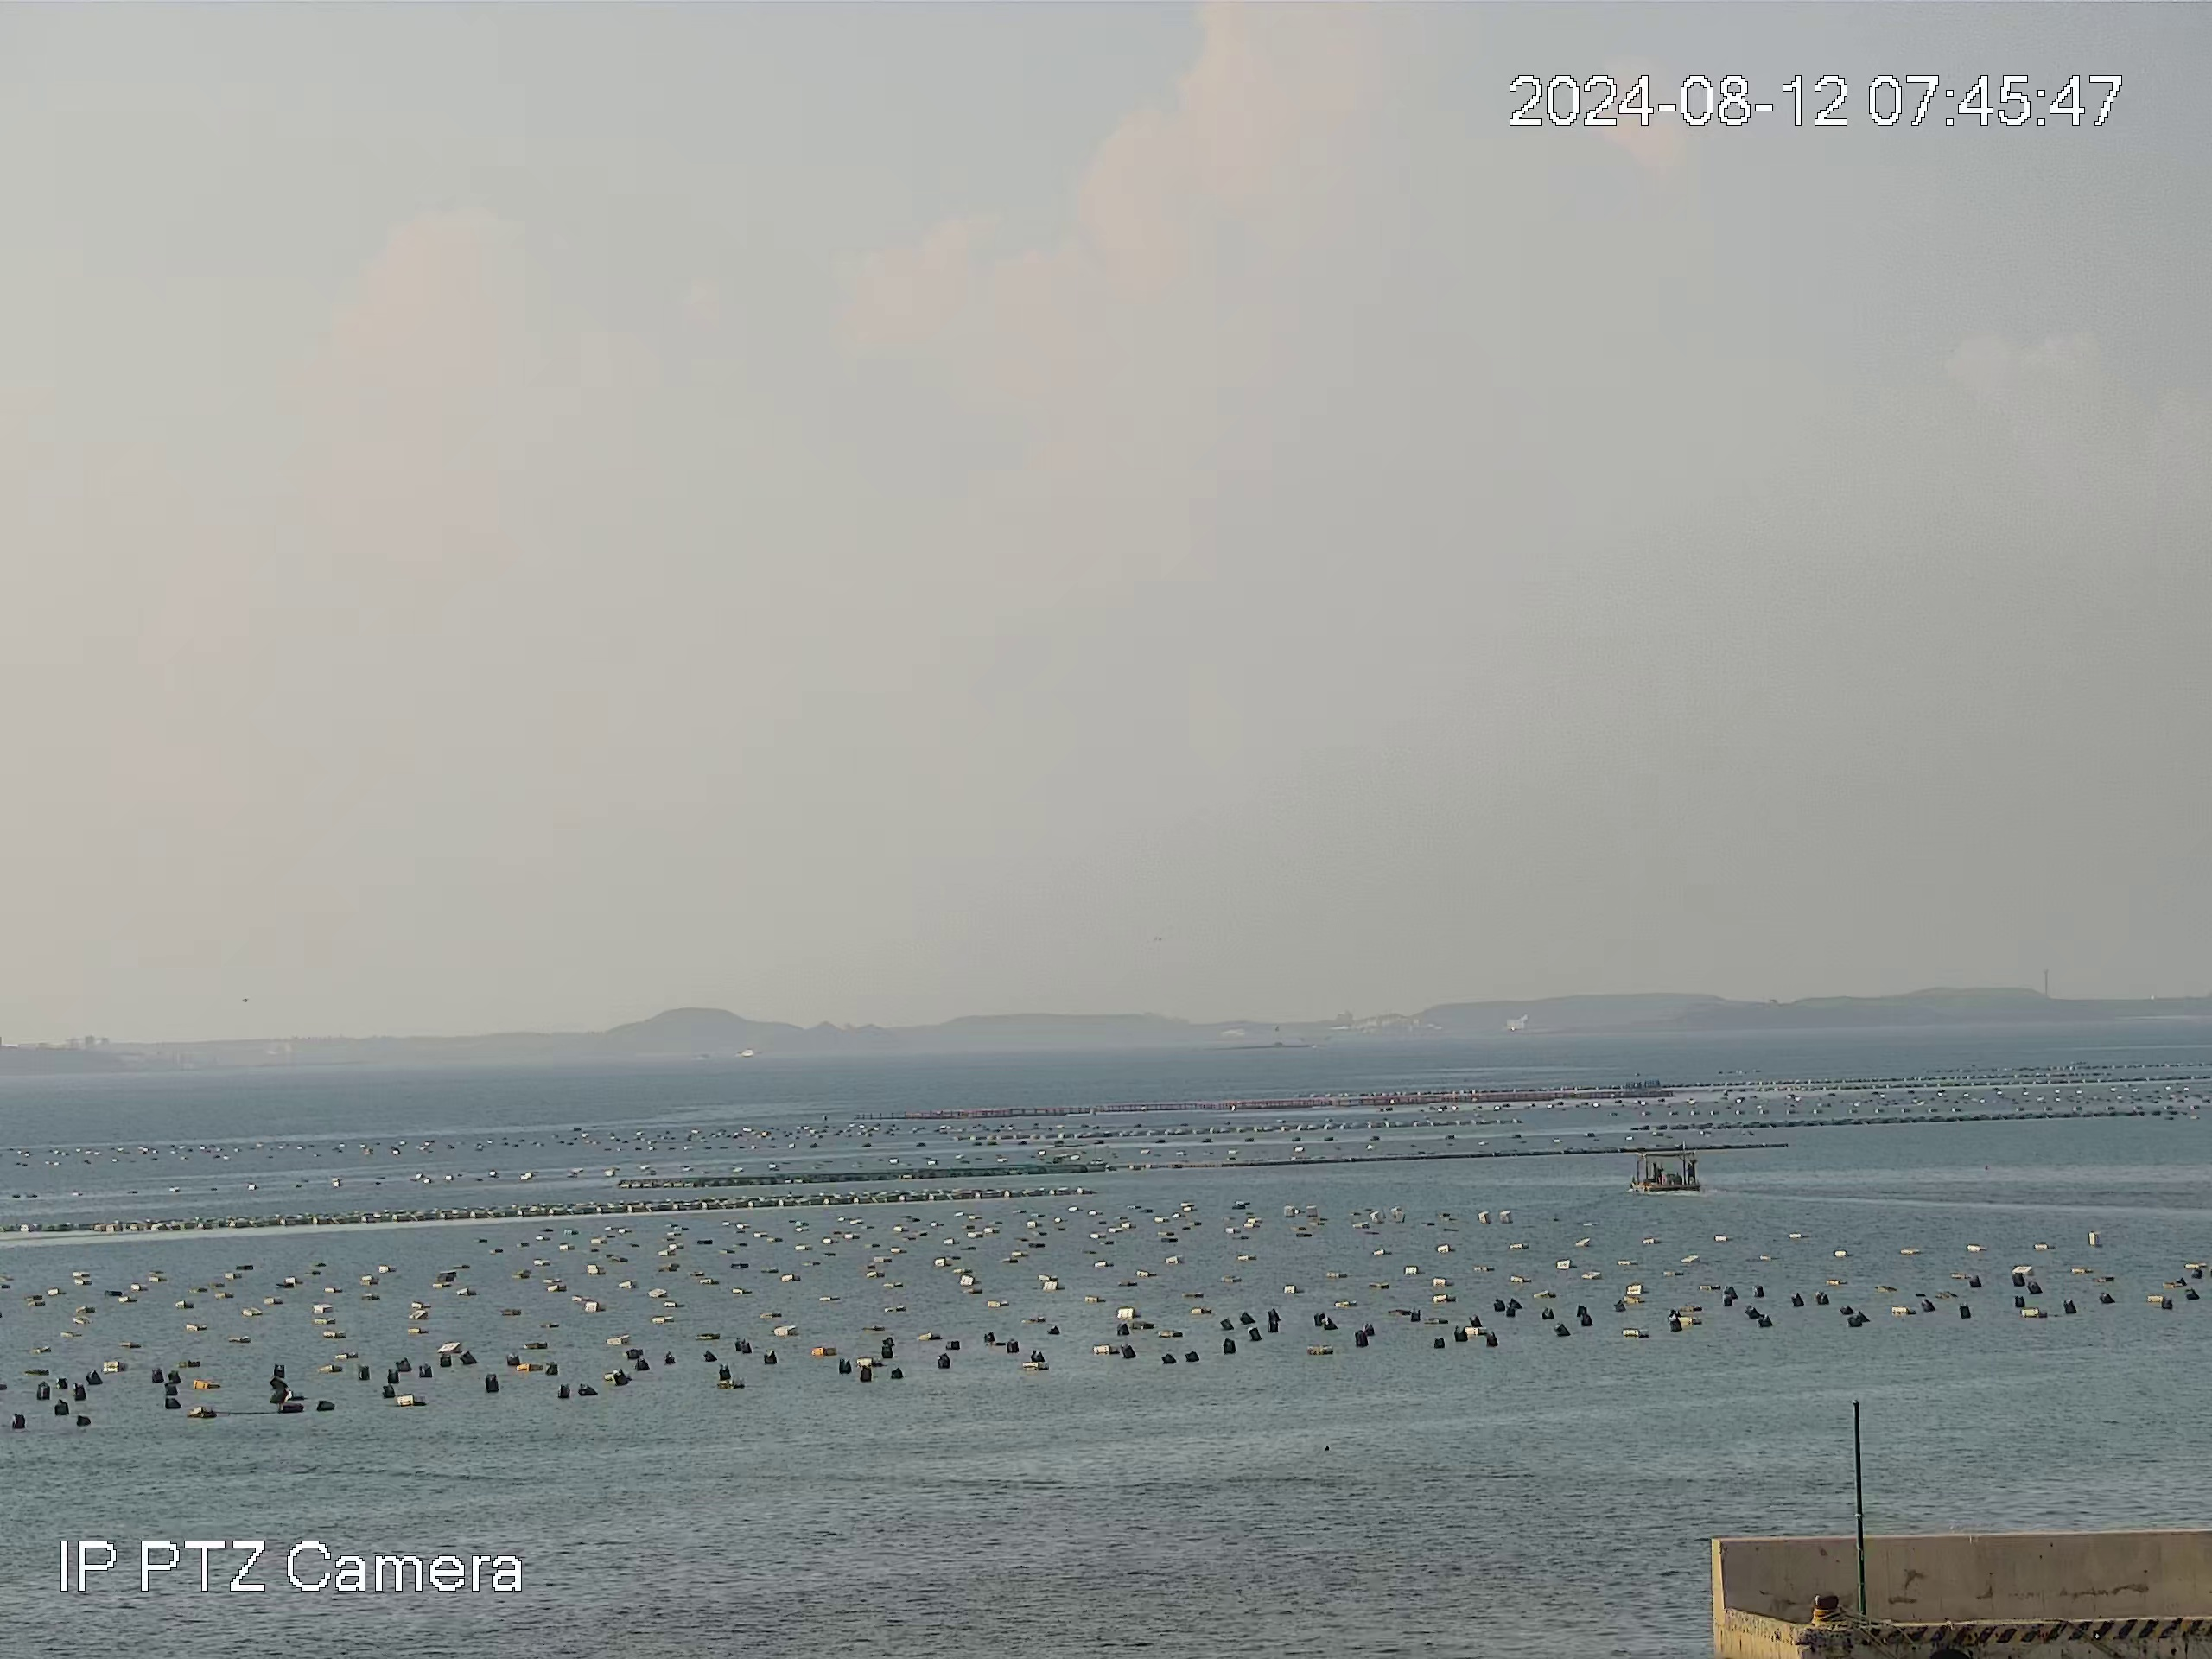boat: (1630, 1150, 1700, 1191)
